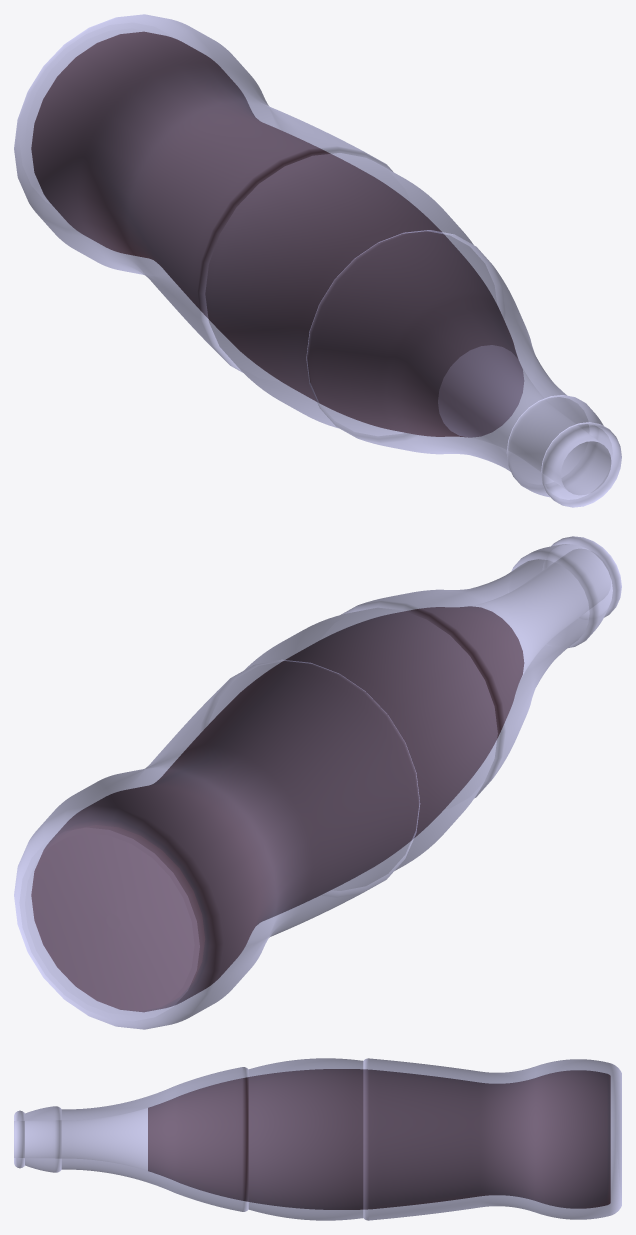
Rendered from model_align.obj.
3 views of the same model, one above another, from view 1: azimuth 30°, elevation 25°; view 2: azimuth 150°, elevation 25°; view 3: azimuth 270°, elevation 25° (orthographic). The views are drawn at different scales.
Parts seen in each view (by area): view 1: mesh1_mesh1-geometry; view 2: mesh1_mesh1-geometry; view 3: mesh1_mesh1-geometry.
Part boxes in pixels (x1,y1,x2,y2): mesh1_mesh1-geometry: [14, 14, 621, 507]; mesh1_mesh1-geometry: [14, 536, 621, 1029]; mesh1_mesh1-geometry: [14, 1058, 621, 1220].
Size of the model in its own units: 0.0696 by 0.0696 by 0.2596.
